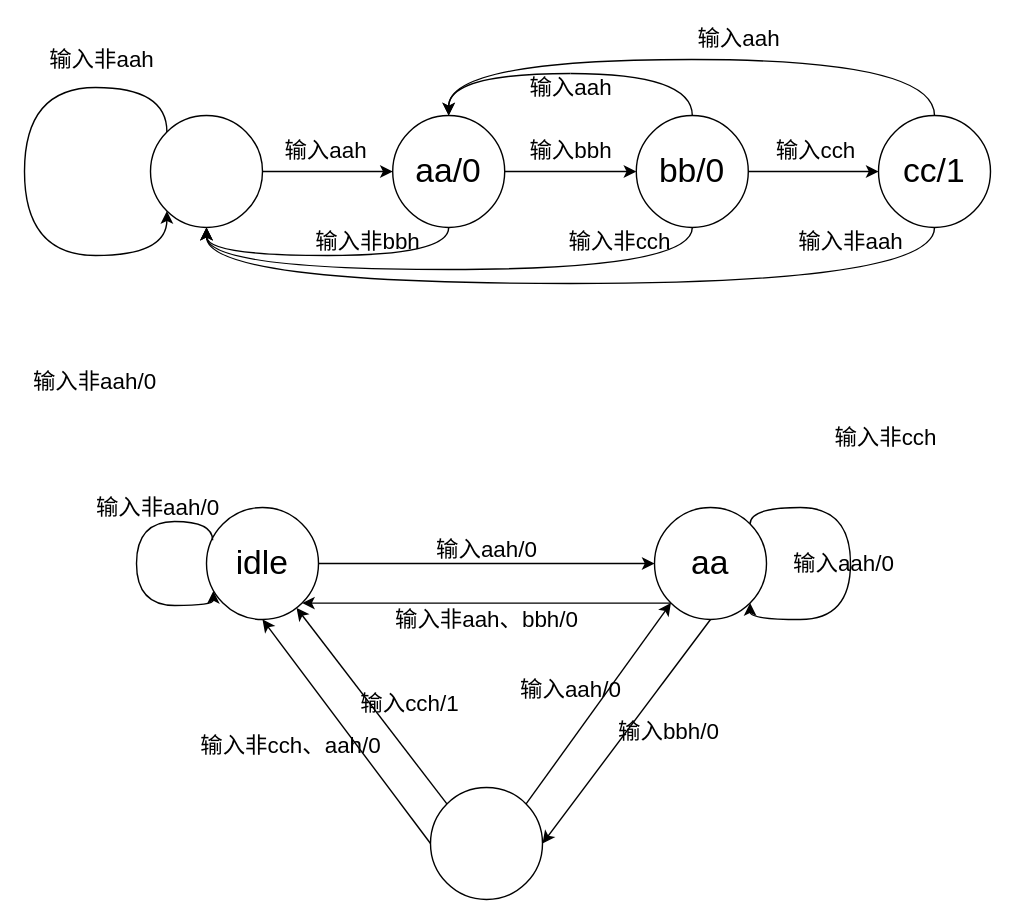
This 1015x924 diagram has some shape labels left out. Here are the shapes that lost their labels. From the top down, the box of each, then its label:
(149, 114, 262, 227): idle/0
(429, 786, 542, 899): bb
